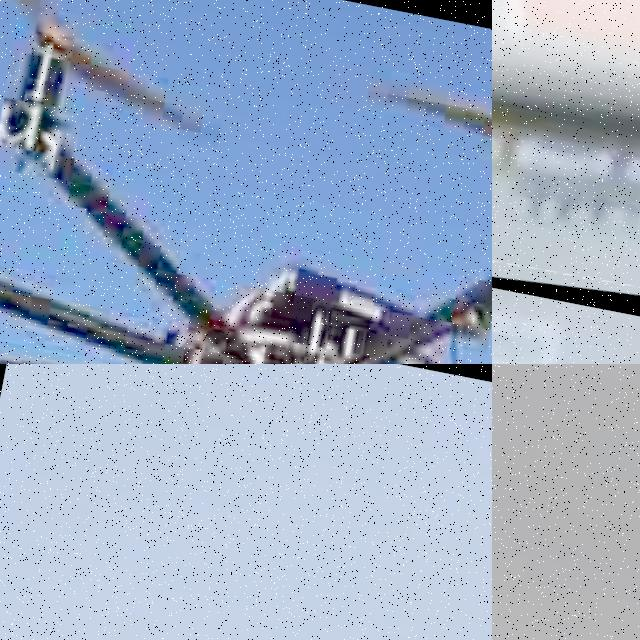drone: (0, 0, 492, 364), (492, 0, 640, 364)
